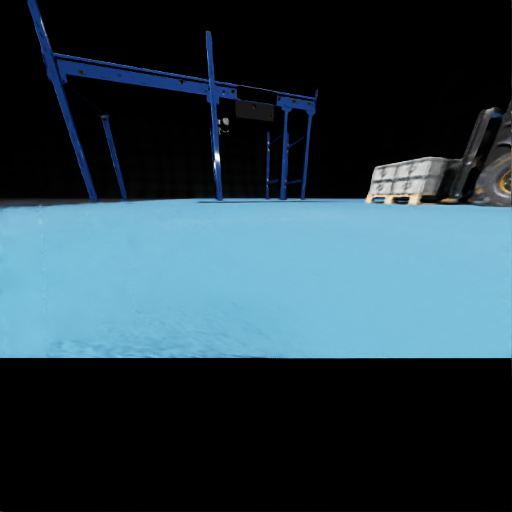transportation_area: (391, 176, 453, 193), (429, 193, 434, 195), (411, 159, 413, 164), (402, 191, 403, 196), (404, 184, 405, 189), (407, 173, 408, 178), (409, 166, 410, 171), (445, 157, 446, 159), (208, 88, 209, 89)
